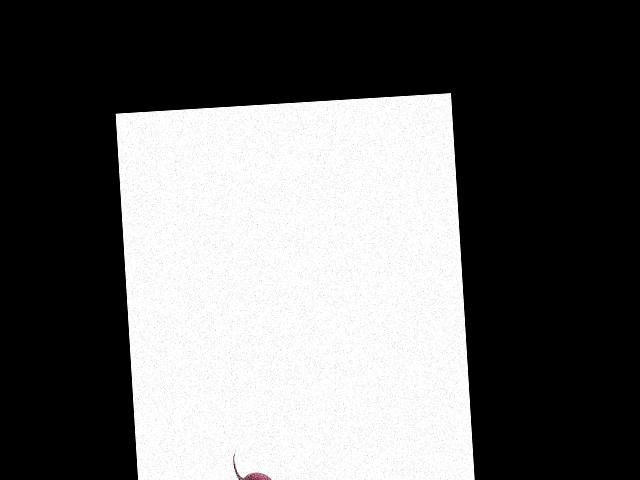beet: (232, 447, 285, 480)
